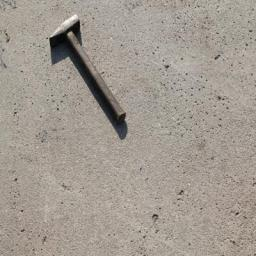FOD: (48, 15, 132, 130)
